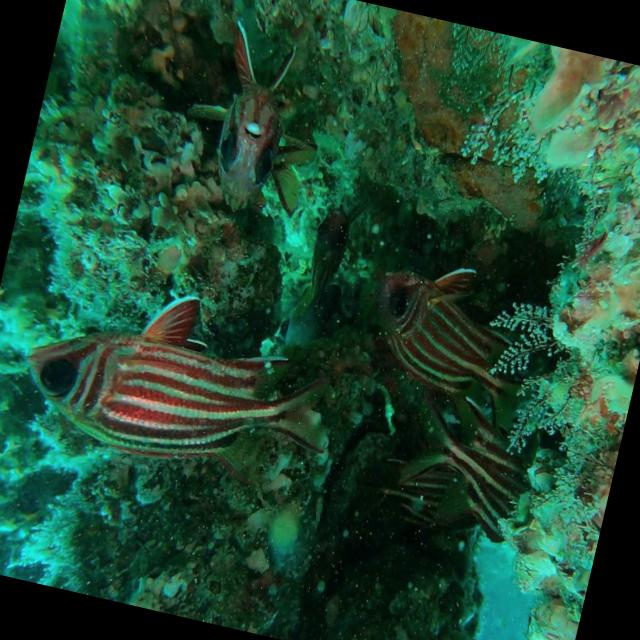Asker Baligi: (0, 243, 386, 513), (350, 240, 586, 449), (167, 25, 312, 238)
